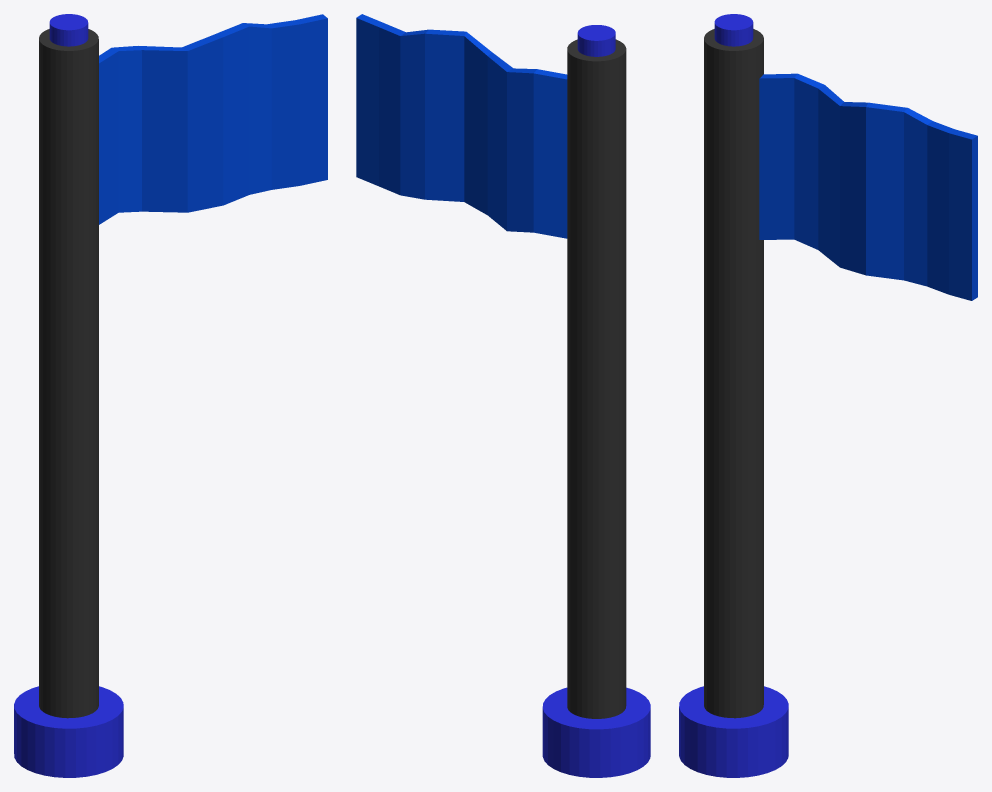
The model's file is Flag_Red_Model_01.fbx.
The picture shows the model from 3 angles, left to right: view 1: azimuth 30°, elevation 25°; view 2: azimuth 150°, elevation 25°; view 3: azimuth 330°, elevation 25°; orthographic projection.
Visible parts, largest first — view 1: Cylinder.001, Plane, Cylinder, Cylinder.002; view 2: Cylinder.001, Plane, Cylinder, Cylinder.002; view 3: Cylinder.001, Plane, Cylinder, Cylinder.002.
Boxes of the visible parts, x1,y1,x2,y2 form: Cylinder.001: [39, 29, 98, 718]; Plane: [99, 14, 327, 224]; Cylinder: [14, 686, 123, 777]; Cylinder.002: [49, 14, 88, 46]; Cylinder.001: [567, 39, 626, 718]; Plane: [356, 14, 567, 238]; Cylinder: [542, 687, 650, 777]; Cylinder.002: [577, 25, 615, 56]; Cylinder.001: [704, 29, 763, 718]; Plane: [759, 73, 977, 300]; Cylinder: [679, 686, 788, 777]; Cylinder.002: [714, 14, 753, 46].
Bounding box in the file's own units: 220 × 520 × 70.63.
